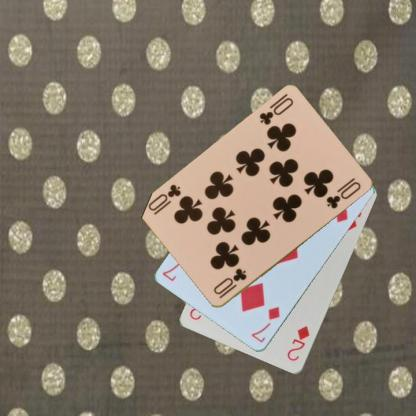10c: (211, 266, 248, 300), (257, 95, 294, 127)
2d: (284, 323, 312, 363)
7d: (248, 304, 282, 344)
